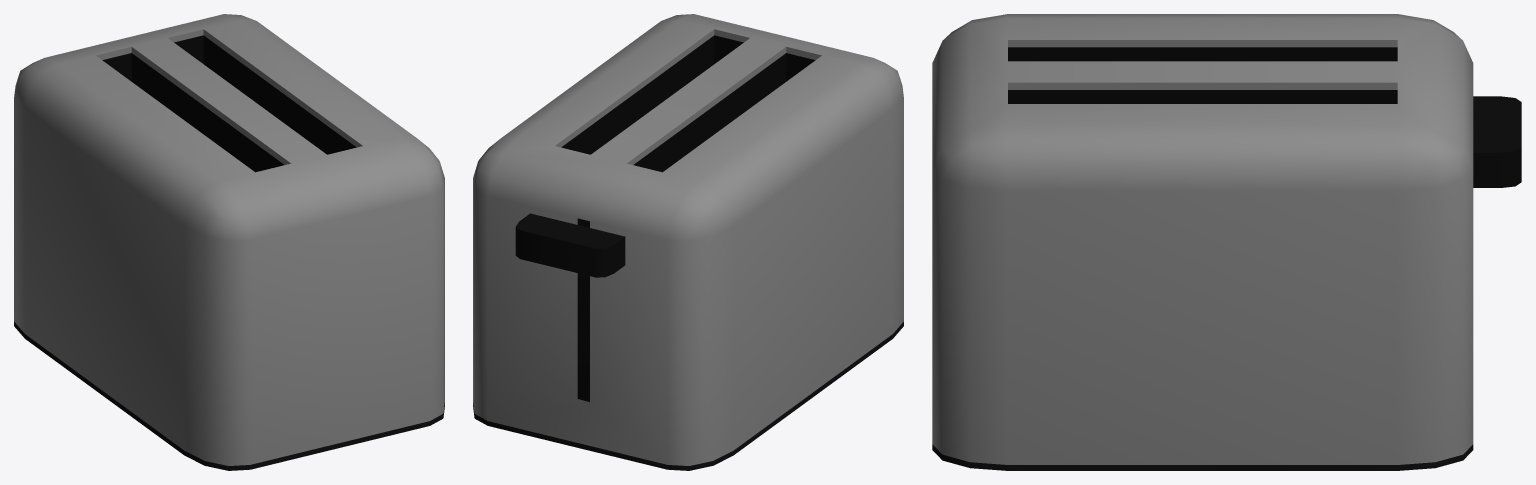
File: Toaster_01.fbx
3 renders of one model, left to right at view 1: azimuth 30°, elevation 25°; view 2: azimuth 150°, elevation 25°; view 3: azimuth 270°, elevation 25°, orthographic. The views are drawn at different scales.
Visible parts, largest first — view 1: Toaster_01; view 2: Toaster_01; view 3: Toaster_01.
Boxes of the visible parts, box(x1,y1,x2,y2) form: Toaster_01: box(14, 14, 444, 470); Toaster_01: box(473, 14, 903, 470); Toaster_01: box(932, 14, 1521, 470).
Size of the model in its own units: 18.84 by 20.13 by 31.55.
